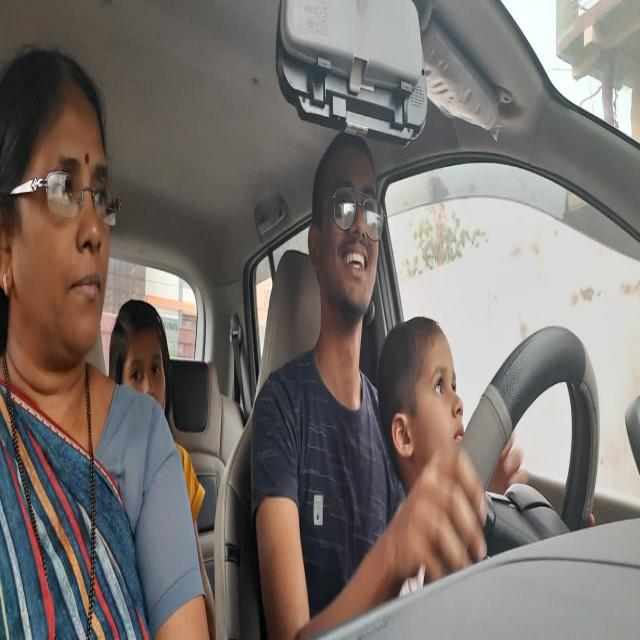child: (374, 308, 466, 459)
person: (0, 49, 118, 365), (310, 120, 383, 319), (111, 303, 167, 397)
